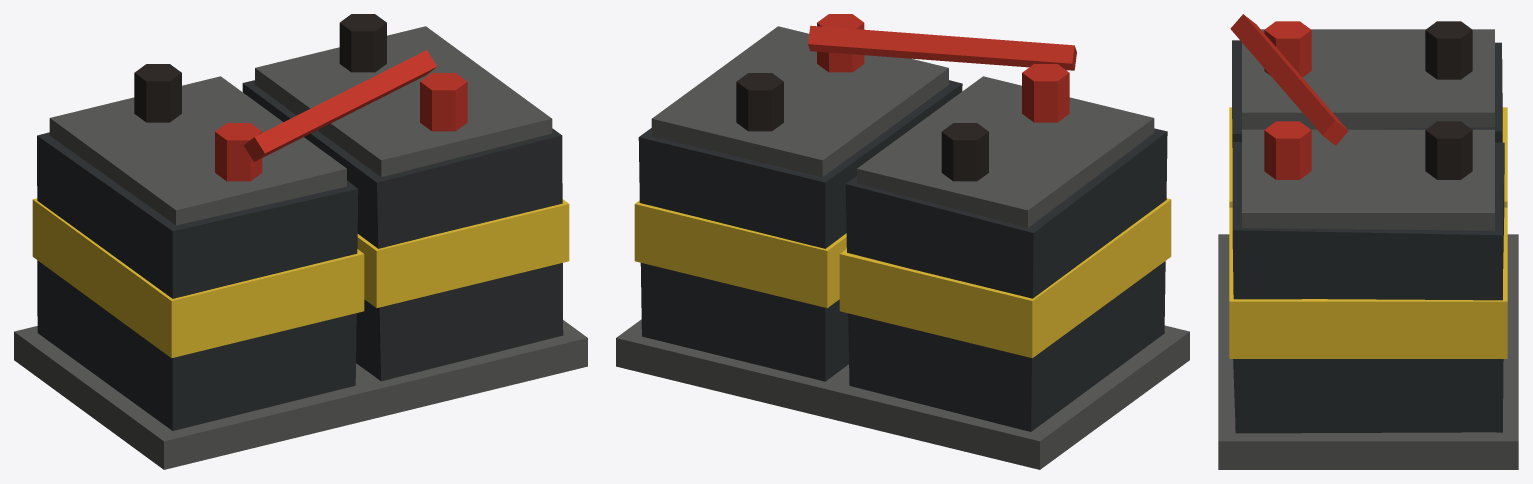
The model's file is good_batteries.glb.
3 views of the same model, side by side, from view 1: azimuth 30°, elevation 25°; view 2: azimuth 150°, elevation 25°; view 3: azimuth 270°, elevation 25° (orthographic).
Visible parts, largest first — view 1: good_batteries; view 2: good_batteries; view 3: good_batteries.
Part boxes in pixels (box(x1,y1,x2,y2)): good_batteries: box(14, 14, 587, 469); good_batteries: box(616, 14, 1189, 469); good_batteries: box(1218, 14, 1518, 469).
Bounding box in the file's own units: 0.62 × 0.4177 × 0.38.
